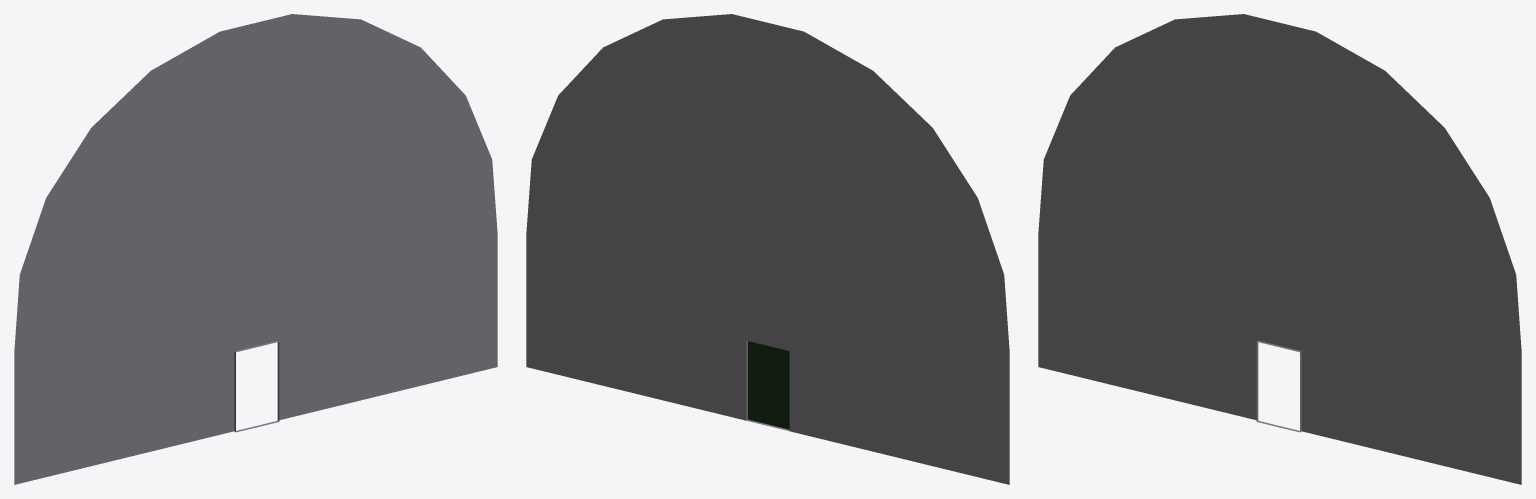
The model's file is PicduMidi_Pared_sala_A.fbx.
3 renders of one model, left to right at view 1: azimuth 30°, elevation 25°; view 2: azimuth 150°, elevation 25°; view 3: azimuth 330°, elevation 25°, orthographic.
Visible parts, largest first — view 1: PicduMidi_pared_de_fuera_Sala_A; view 2: PicduMidi_pared_de_fuera_Sala_A; view 3: PicduMidi_pared_de_fuera_Sala_A.
Part boxes in pixels (bbox=[...]): PicduMidi_pared_de_fuera_Sala_A: bbox=[14, 14, 497, 484]; PicduMidi_pared_de_fuera_Sala_A: bbox=[526, 14, 1009, 484]; PicduMidi_pared_de_fuera_Sala_A: bbox=[1038, 14, 1521, 484].
Bounding box in the file's own units: 1704 × 1359 × 9.96.
